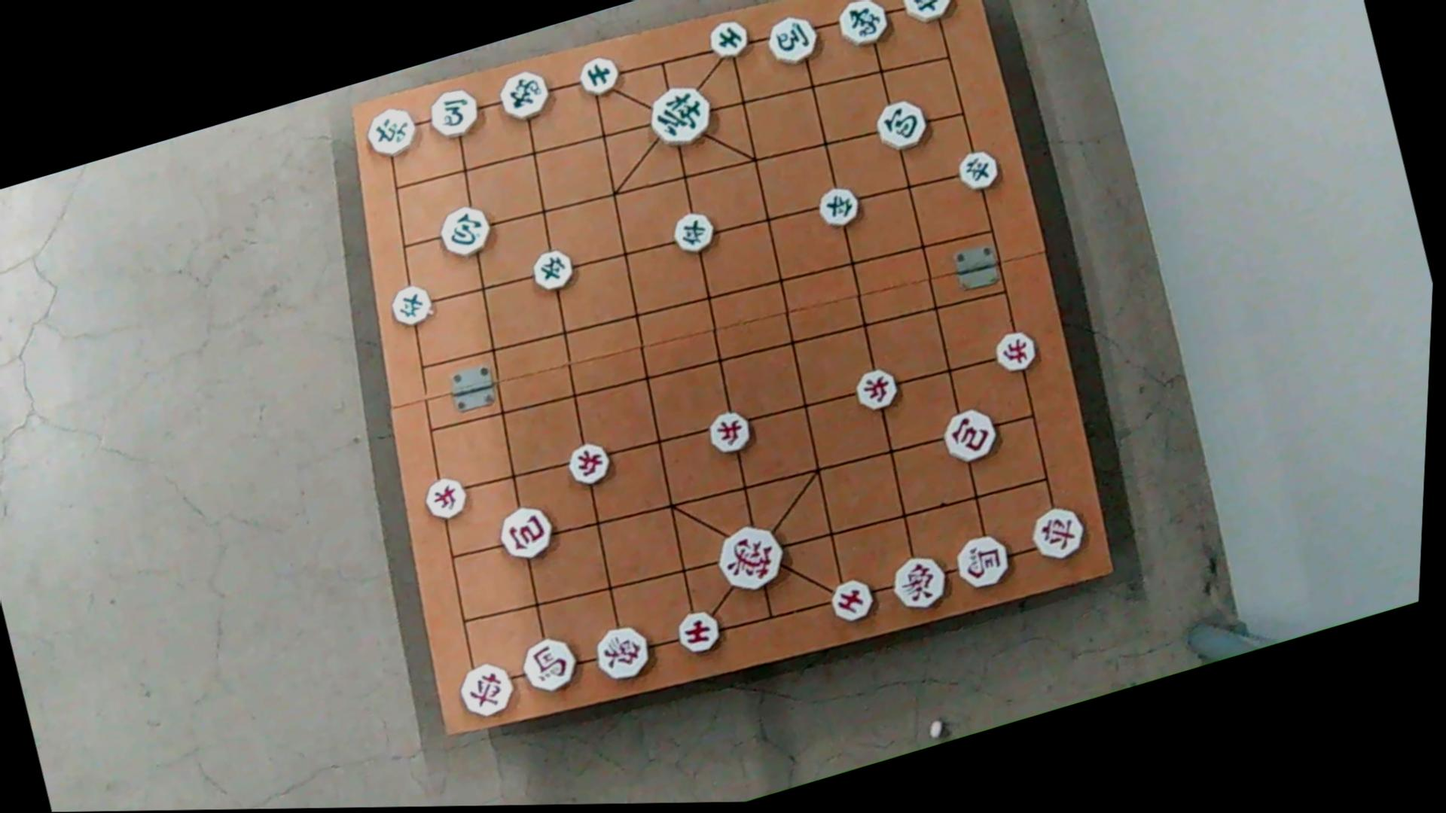cha_green: (358, 99, 423, 162), (895, 0, 953, 27)
cha_red: (453, 657, 523, 723), (1025, 500, 1094, 566)
jol_green: (529, 245, 581, 292), (667, 208, 718, 255), (814, 185, 864, 232), (388, 281, 439, 327), (955, 148, 1004, 193)
jol_red: (702, 408, 754, 457), (852, 365, 905, 413), (562, 442, 614, 490), (417, 477, 469, 525), (991, 328, 1042, 376)
ma_green: (426, 84, 490, 140), (763, 13, 825, 69)
ma_red: (517, 633, 584, 696), (949, 533, 1015, 594)
po_green: (432, 202, 496, 260), (873, 98, 934, 154)
po_red: (938, 405, 1004, 467), (493, 504, 557, 564)
sa_green: (576, 52, 626, 96), (702, 18, 749, 61)
sa_red: (823, 571, 880, 625), (672, 608, 725, 656)
sang_green: (493, 66, 555, 123), (834, 0, 895, 50)
sang_red: (587, 620, 659, 684), (886, 551, 950, 611)
wang_green: (642, 82, 717, 151)
wang_red: (707, 518, 792, 598)
